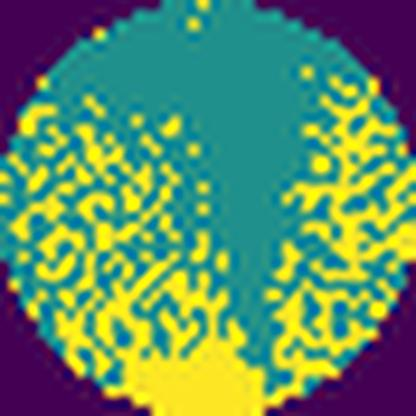Edge-Loc: (0, 99, 278, 415), (274, 65, 416, 416)
